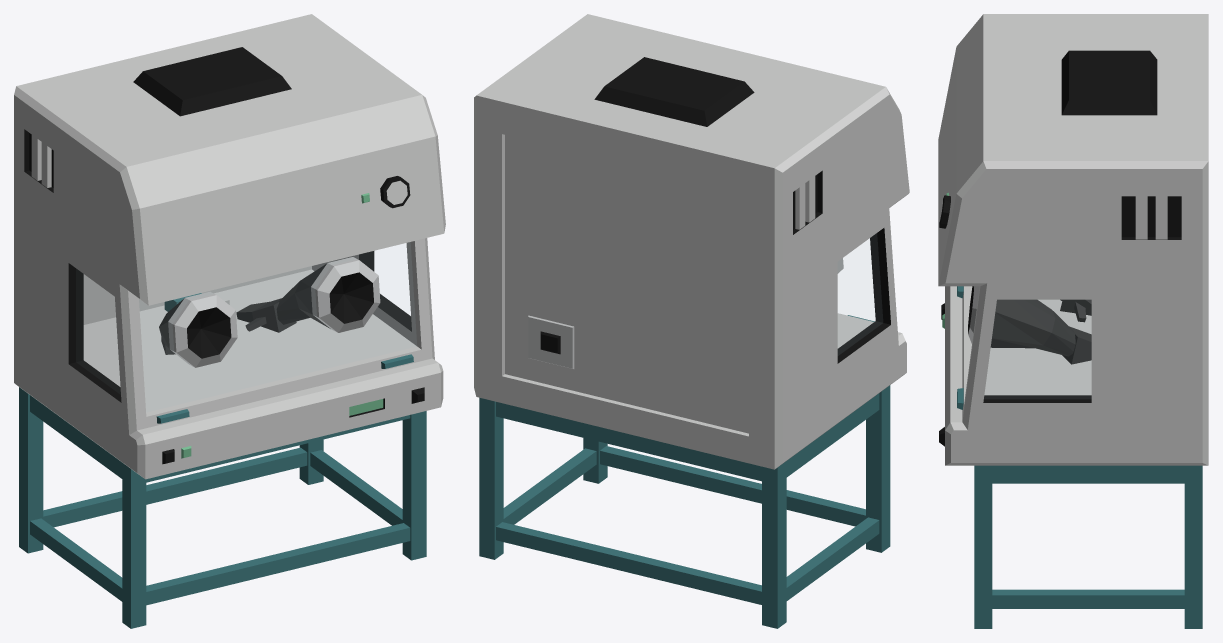
File: glovebox-737c45.glb
3 renders of one model, left to right at view 1: azimuth 30°, elevation 25°; view 2: azimuth 150°, elevation 25°; view 3: azimuth 270°, elevation 25°, orthographic.
Parts seen in each view (by area): view 1: glovebox; view 2: glovebox; view 3: glovebox.
Boxes of the visible parts, box(x1,y1,x2,y2) form: glovebox: box(14, 14, 445, 628); glovebox: box(474, 14, 909, 628); glovebox: box(938, 14, 1208, 628).
Bounding box in the file's own units: 1.2 × 1.76 × 0.9.
